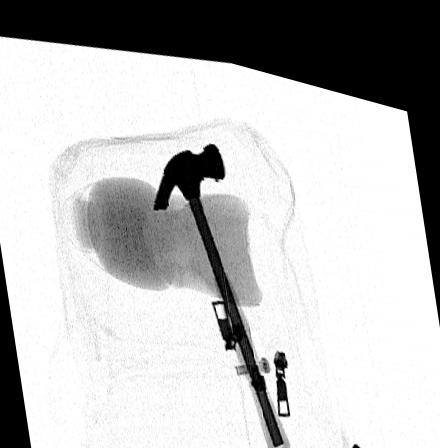Hammer: (151, 131, 291, 447)
